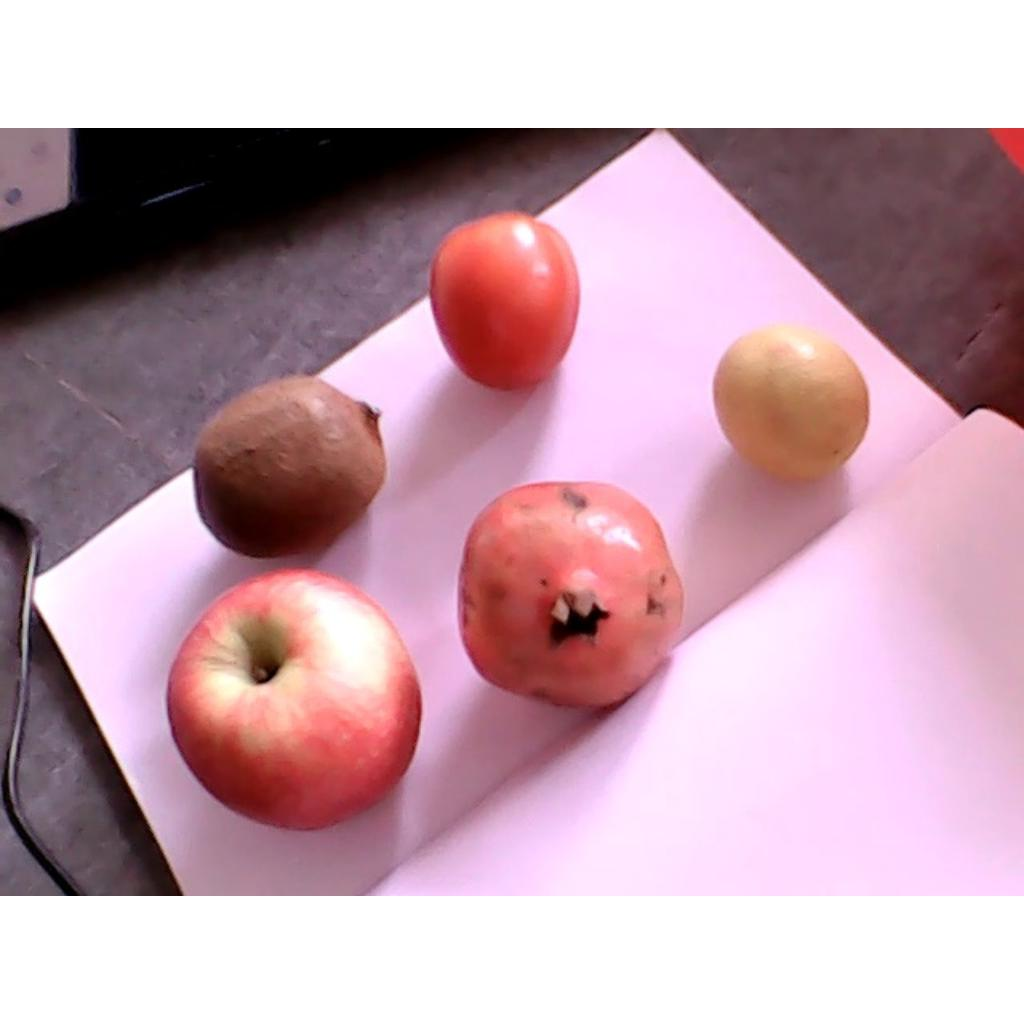apple: (168, 570, 424, 831)
kiwi: (192, 373, 386, 559)
lemon: (713, 325, 869, 480)
pomegranate: (458, 481, 683, 709)
tomato: (429, 212, 581, 390)
